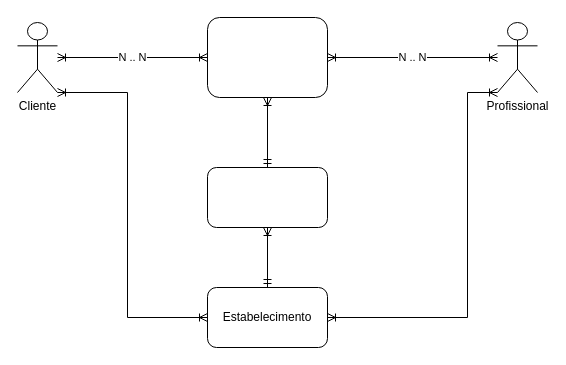
This 566x365 diagram has some shape labels left out. The shapes that lost their labels are listed below. From the top down, each one's centre as x and y in pixels, then its label:
At point (267, 57): "Agendamento".
At point (267, 197): "Agenda".
